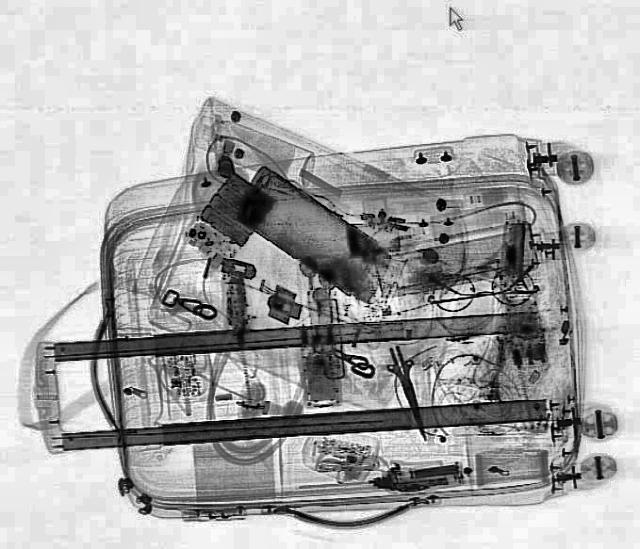Knife: (378, 342, 440, 444)
